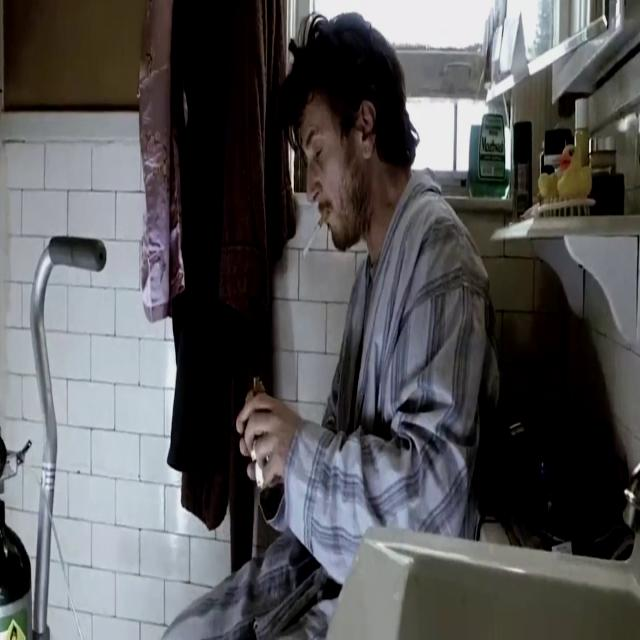Smooking: (299, 206, 332, 266)
